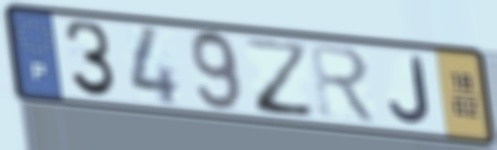3: (61, 19, 119, 100)
4: (126, 24, 185, 110)
9: (189, 27, 247, 117)
J: (386, 54, 435, 128)
R: (306, 41, 382, 128)
Z: (241, 35, 319, 122)
